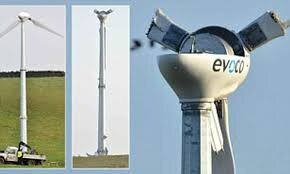faulty: (146, 6, 284, 102)
